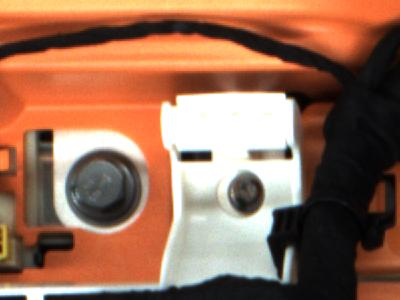nut_b: (62, 153, 144, 225)
